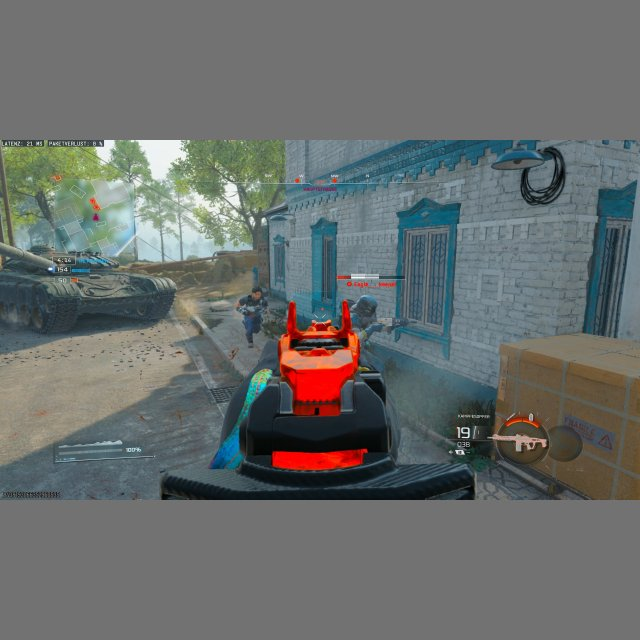head: (358, 295, 377, 317), (251, 286, 262, 300)
player: (236, 286, 269, 347), (349, 294, 384, 351)
